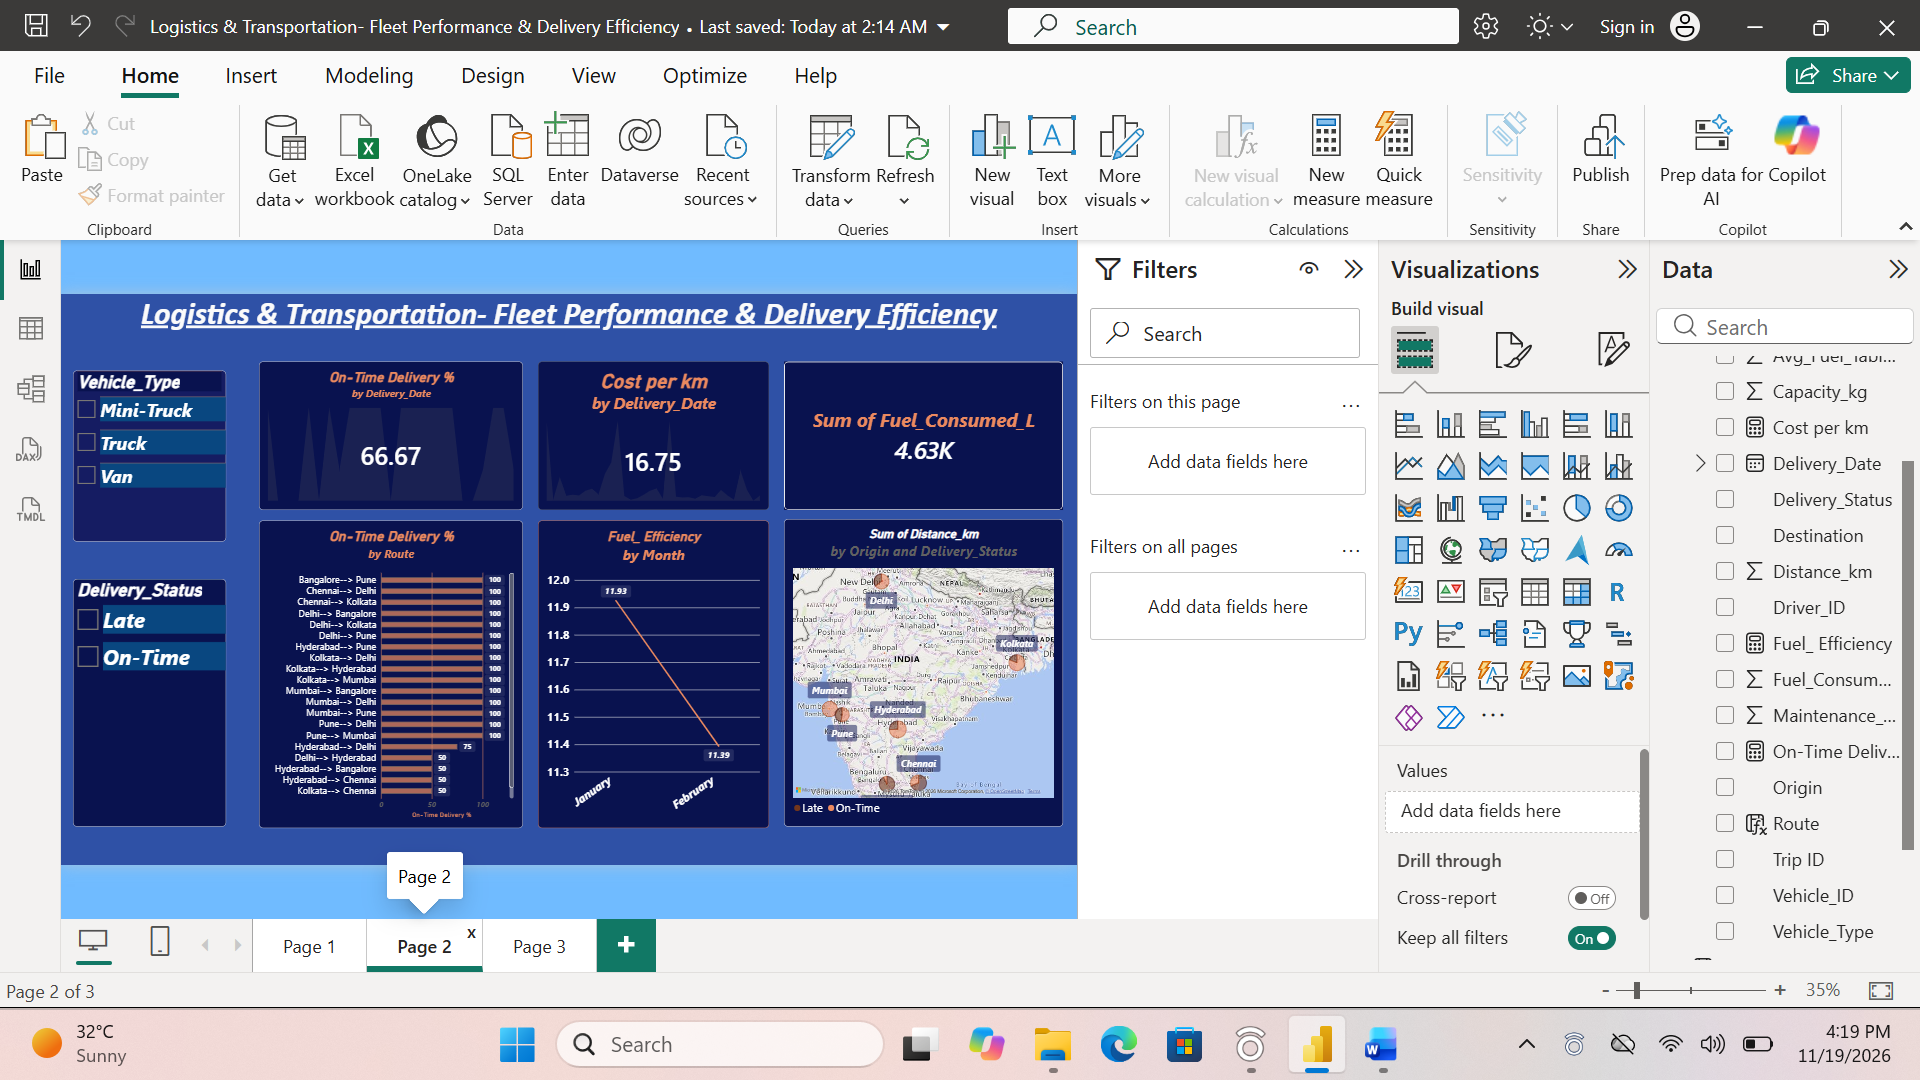

The dashboard page shown, as its layout file describes it:
{"tool":"powerbi","page":{"name":"Dashboard","canvas":[1920,1080],"ordinal":1},"visuals":[{"type":"textbox","box":[0,0,1919.1,124.7],"z":0},{"type":"clusteredBarChart","fields":{"Category":["Trip_Data_21Merge2.Route"],"Y":["Trip_Data_21Merge2.On-Time Delivery %"]},"box":[374.2,428,498.9,581.1],"z":1000},{"type":"lineChart","fields":{"Category":["Trip_Data_21Merge2.Delivery_Date.Variation.Date Hierarchy.Month"],"Y":["Trip_Data_21Merge2.Fuel_ Efficiency"]},"box":[901.4,428,436.5,581.1],"z":2000},{"type":"map","fields":{"Category":["Trip_Data_21Merge2.Origin"],"Series":["Trip_Data_21Merge2.Delivery_Status"],"Size":["Sum(Trip_Data_21Merge2.Distance_km)"]},"box":[1366.3,425.2,527.2,581.1],"z":3000},{"type":"slicer","fields":{"Values":["Trip_Data_21Merge2.Vehicle_Type"]},"box":[22.7,144.6,289.1,323.2],"z":4000},{"type":"slicer","fields":{"Values":["Trip_Data_21Merge2.Delivery_Status"]},"box":[22.7,538.6,289.1,467.7],"z":5000},{"type":"kpi","fields":{"Indicator":["Trip_Data_21Merge2.Cost per km"],"TrendLine":["Trip_Data_21Merge2.Delivery_Date"]},"box":[901.4,127.6,436.5,280.6],"z":6000},{"type":"cardVisual","fields":{"Data":["Sum(Trip_Data_21Merge2.Fuel_Consumed_L)"]},"box":[1366.3,127.6,527.2,280.6],"z":7000},{"type":"kpi","fields":{"Indicator":["Trip_Data_21Merge2.On-Time Delivery %"],"TrendLine":["Trip_Data_21Merge2.Delivery_Date"]},"box":[374.2,127.6,498.9,280.6],"z":8000}]}

Visuals, with their boxes on the page's 1920x1080 design canvas (x1, y1, x2, y2). These are canvas units, not pixel positions in the 1920x1080 screenshot, which may show the page scaled, cropped or inside an application window:
textbox: box(0, 0, 1919, 125)
clusteredBarChart - Trip_Data_21Merge2.Route x Trip_Data_21Merge2.On-Time Delivery %: box(374, 428, 873, 1009)
lineChart - Trip_Data_21Merge2.Delivery_Date.Variation.Date Hierarchy.Month x Trip_Data_21Merge2.Fuel_ Efficiency: box(901, 428, 1338, 1009)
map - Trip_Data_21Merge2.Origin x Trip_Data_21Merge2.Delivery_Status: box(1366, 425, 1894, 1006)
slicer - Trip_Data_21Merge2.Vehicle_Type: box(23, 145, 312, 468)
slicer - Trip_Data_21Merge2.Delivery_Status: box(23, 539, 312, 1006)
kpi - Trip_Data_21Merge2.Cost per km x Trip_Data_21Merge2.Delivery_Date: box(901, 128, 1338, 408)
cardVisual - Sum(Trip_Data_21Merge2.Fuel_Consumed_L): box(1366, 128, 1894, 408)
kpi - Trip_Data_21Merge2.On-Time Delivery % x Trip_Data_21Merge2.Delivery_Date: box(374, 128, 873, 408)
